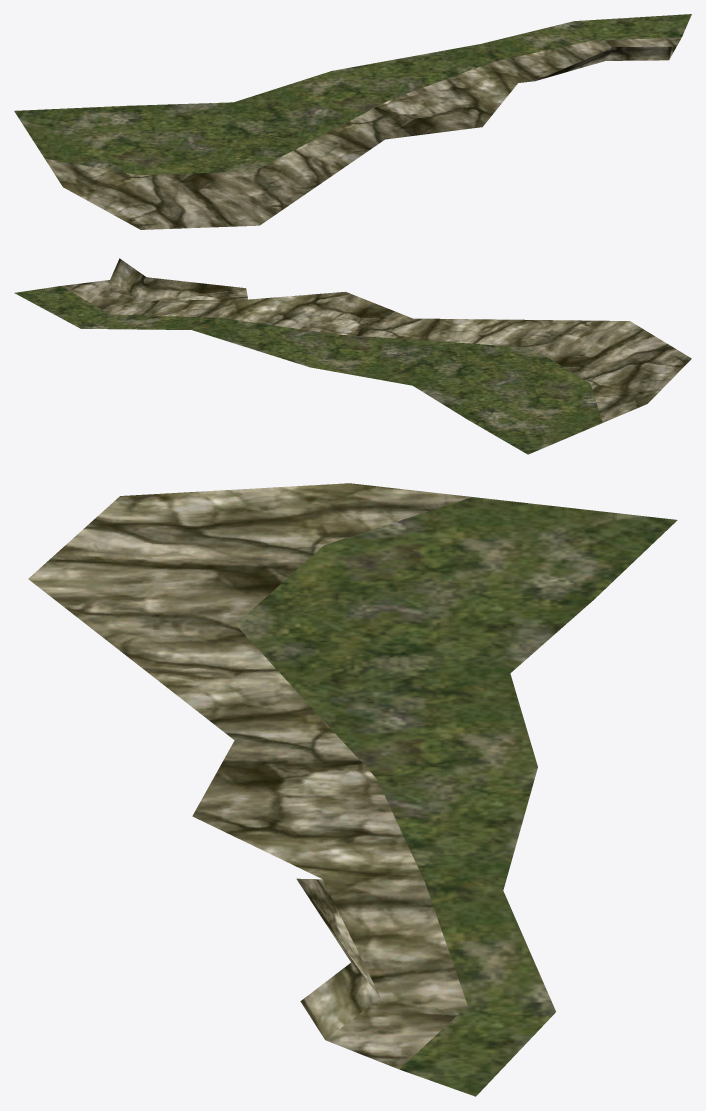
File: CB_NEWPLAYSURFACE_CB_PLAYSURFACE78.fbx
3 renders of one model, top to bottom at view 1: azimuth 30°, elevation 25°; view 2: azimuth 150°, elevation 25°; view 3: azimuth 270°, elevation 25°, orthographic. The views are drawn at different scales.
Visible parts, largest first — view 1: CB_NEWPLAYSURFACE_CB_PLAYSURFACE78; view 2: CB_NEWPLAYSURFACE_CB_PLAYSURFACE78; view 3: CB_NEWPLAYSURFACE_CB_PLAYSURFACE78.
Part boxes in pixels (bbox=[...]): CB_NEWPLAYSURFACE_CB_PLAYSURFACE78: bbox=[14, 14, 691, 229]; CB_NEWPLAYSURFACE_CB_PLAYSURFACE78: bbox=[14, 258, 691, 454]; CB_NEWPLAYSURFACE_CB_PLAYSURFACE78: bbox=[28, 483, 677, 1096].
Bounding box in the file's own units: 230521 × 6541 × 107723.
Materials: 2 (2 with a texture image).
